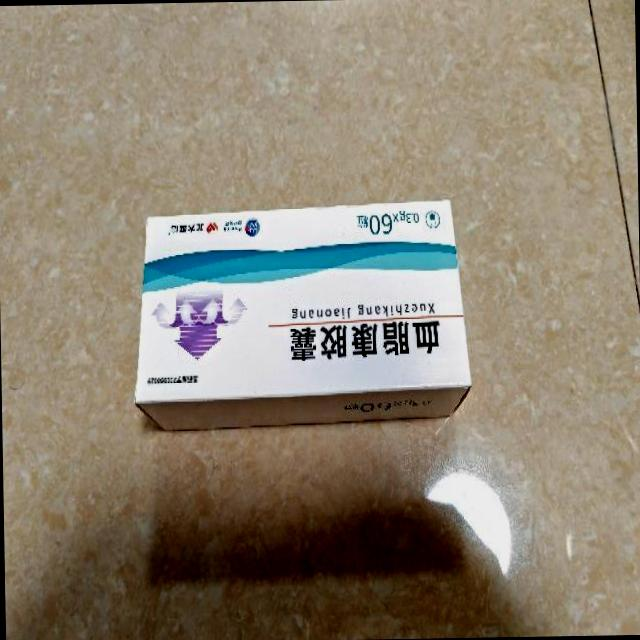box: (130, 202, 472, 432)
